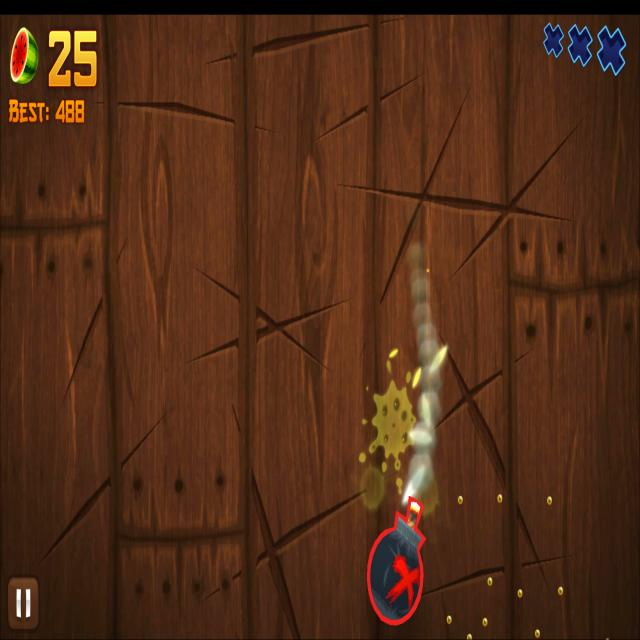bomb: (368, 496, 426, 626)
